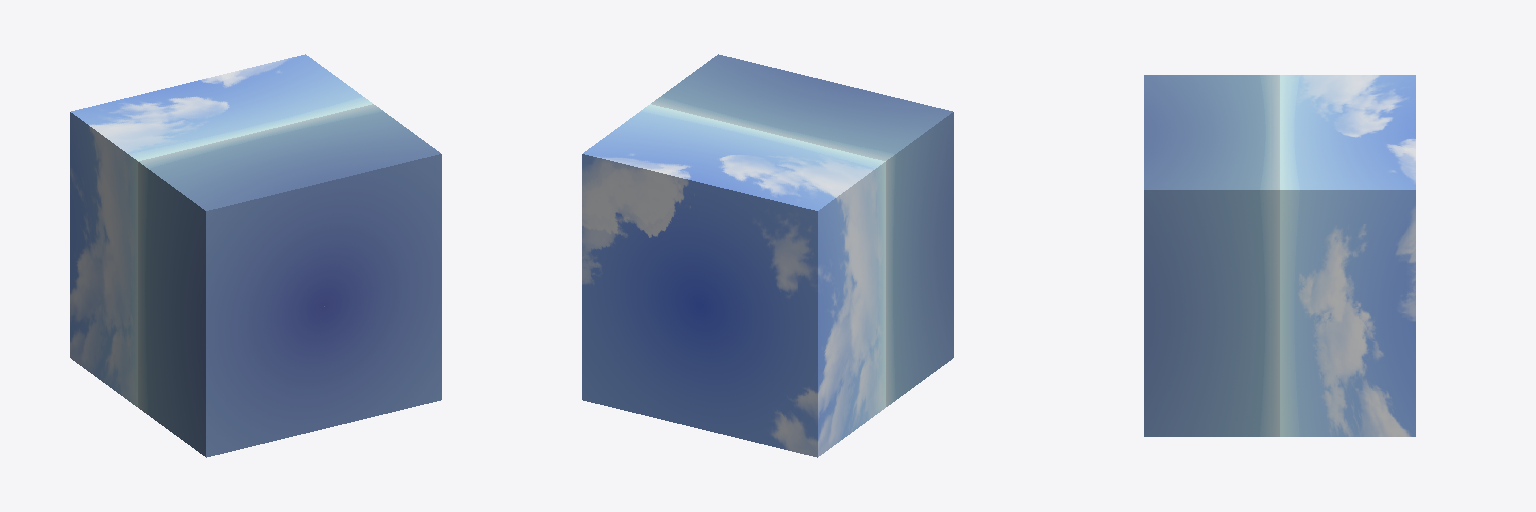
3 views of the same model, side by side, from view 1: azimuth 30°, elevation 25°; view 2: azimuth 150°, elevation 25°; view 3: azimuth 270°, elevation 25° (orthographic).
Parts seen in each view (by area): view 1: SkyBox; view 2: SkyBox; view 3: SkyBox.
Boxes of the visible parts, x1=… form: SkyBox: x1=70, y1=54, x2=441, y2=457; SkyBox: x1=582, y1=54, x2=953, y2=457; SkyBox: x1=1144, y1=75, x2=1415, y2=436.
Bounding box in the file's own units: 2 × 2 × 2.
1 materials, 1 textured.